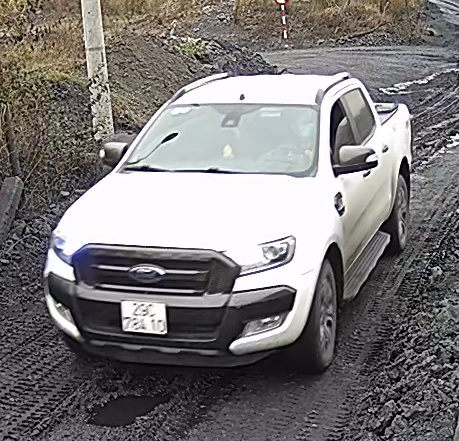vehicle plate: (113, 295, 169, 339)
